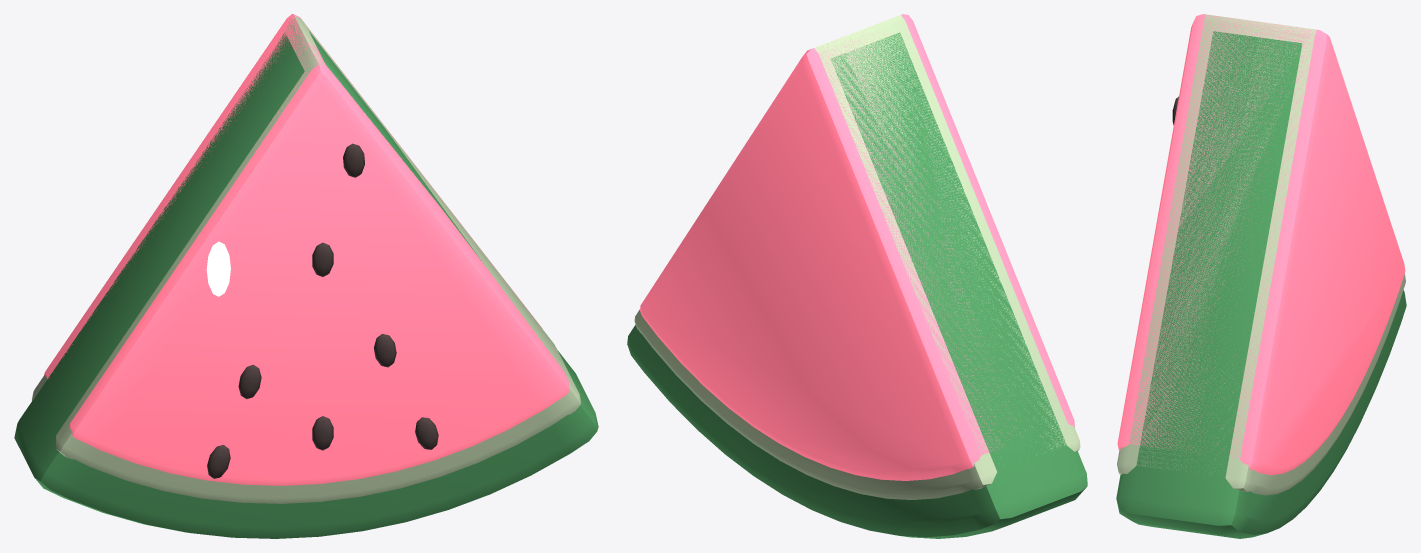
File: treat_melon.glb
The picture shows the model from 3 angles, left to right: view 1: azimuth 30°, elevation 25°; view 2: azimuth 150°, elevation 25°; view 3: azimuth 270°, elevation 25°; orthographic projection. The views are drawn at different scales.
Parts seen in each view (by area): view 1: treat_melon; view 2: treat_melon; view 3: treat_melon.
Part boxes in pixels (<box>): treat_melon: <box>14,14,598,538</box>; treat_melon: <box>627,14,1087,538</box>; treat_melon: <box>1116,14,1406,538</box>.
Size of the model in its own units: 0.5441 by 0.4945 by 0.279.
